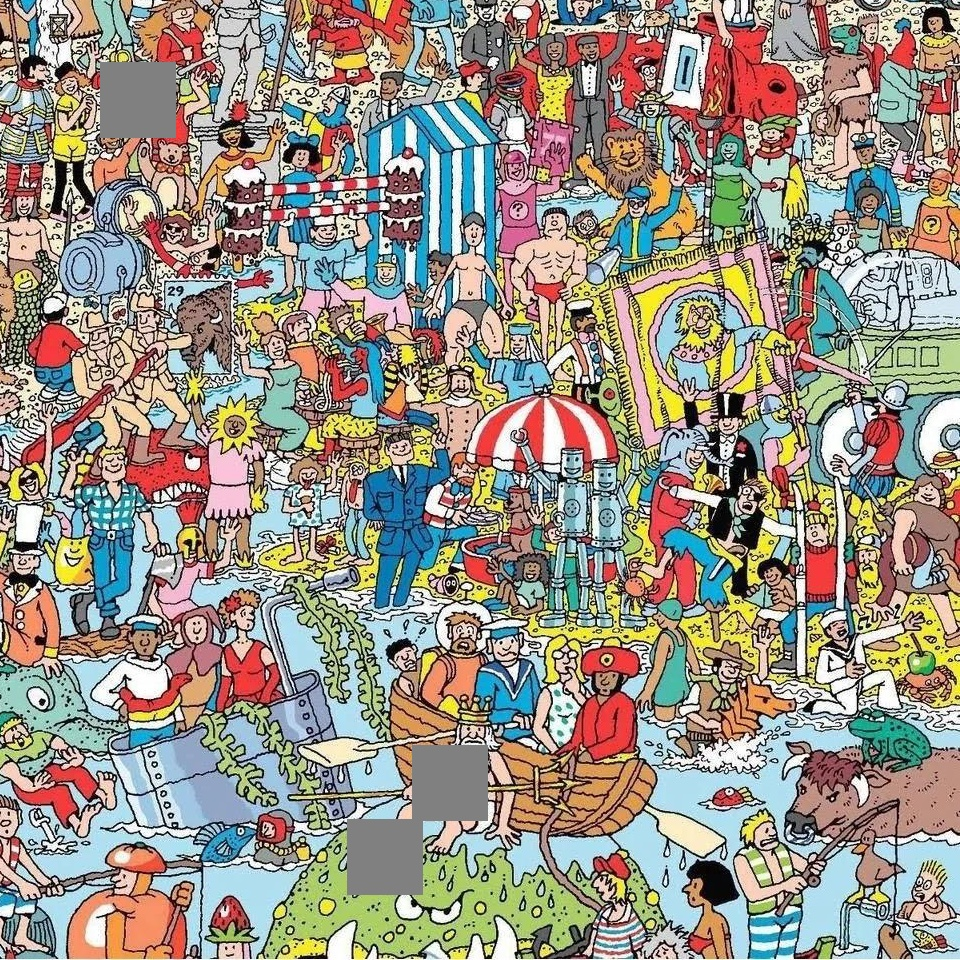waldo: (626, 53, 660, 89)
